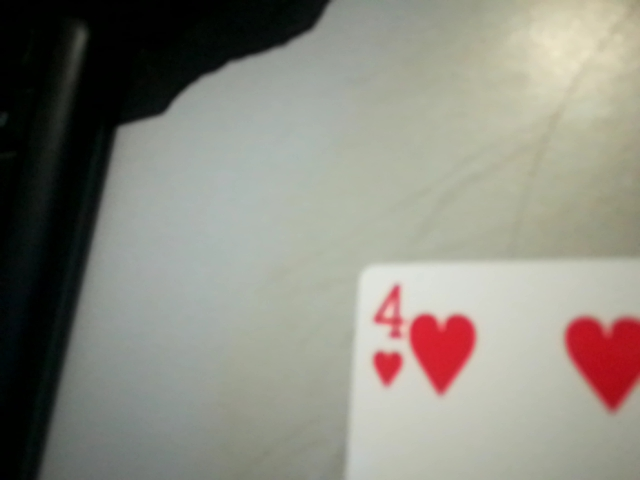hx 4: (355, 270, 414, 400)
